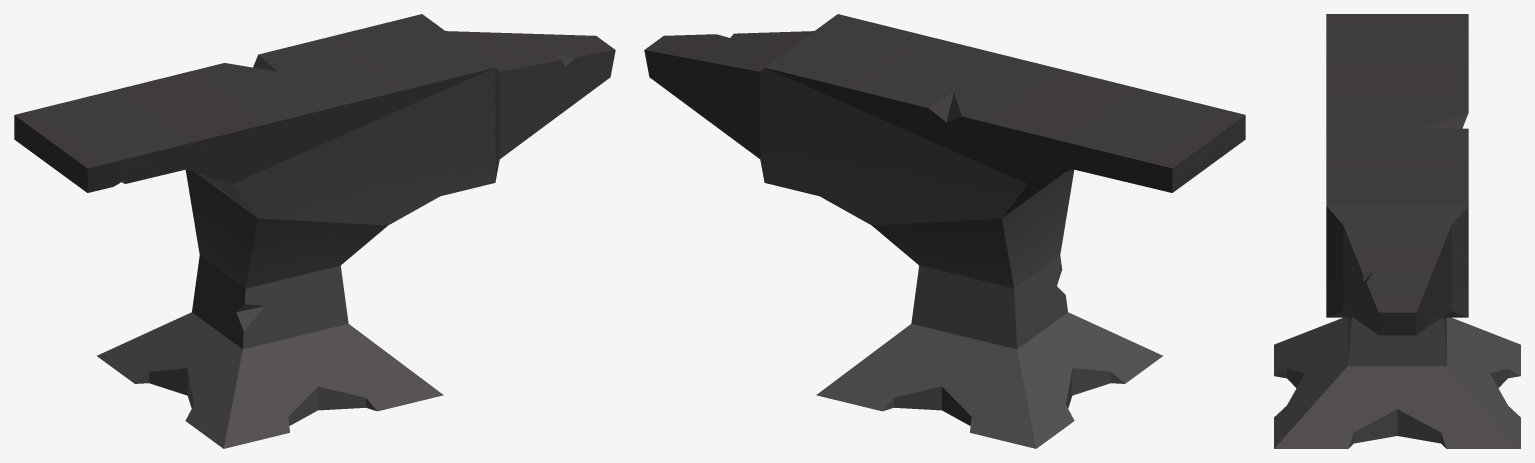
Rendered from anvil.fbx.
3 renders of one model, left to right at view 1: azimuth 30°, elevation 25°; view 2: azimuth 150°, elevation 25°; view 3: azimuth 270°, elevation 25°, orthographic. The views are drawn at different scales.
Parts seen in each view (by area): view 1: Cube.001; view 2: Cube.001; view 3: Cube.001.
Boxes of the visible parts, box(x1,y1,x2,y2) form: Cube.001: box(14, 14, 615, 448); Cube.001: box(644, 14, 1245, 448); Cube.001: box(1274, 14, 1520, 448).
Size of the model in its own units: 101 by 50.1 by 40.
